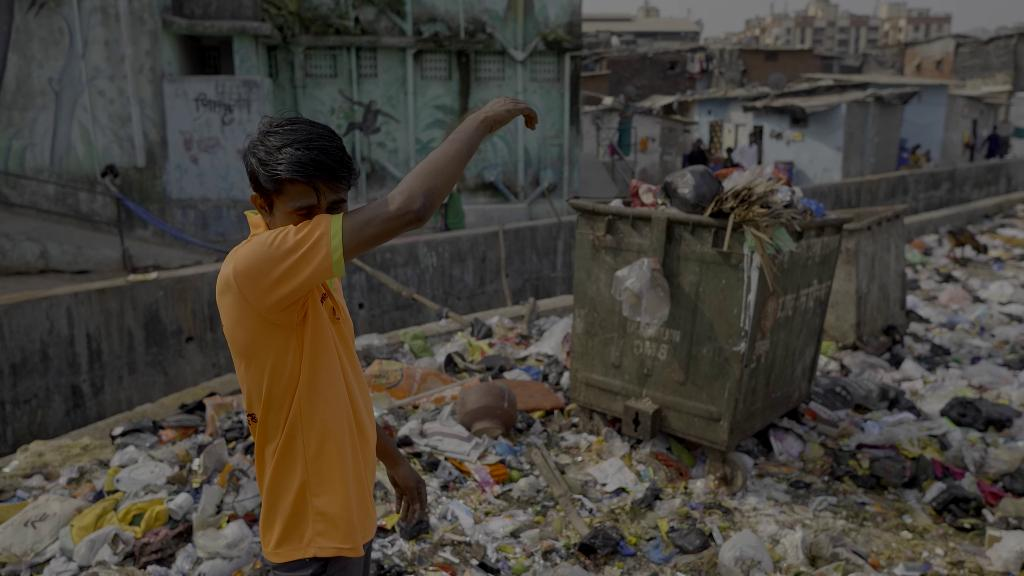dustbin: (576, 195, 846, 445)
garbage: (604, 257, 670, 343), (656, 164, 727, 208), (577, 455, 639, 494), (661, 521, 715, 560), (578, 524, 625, 559)
